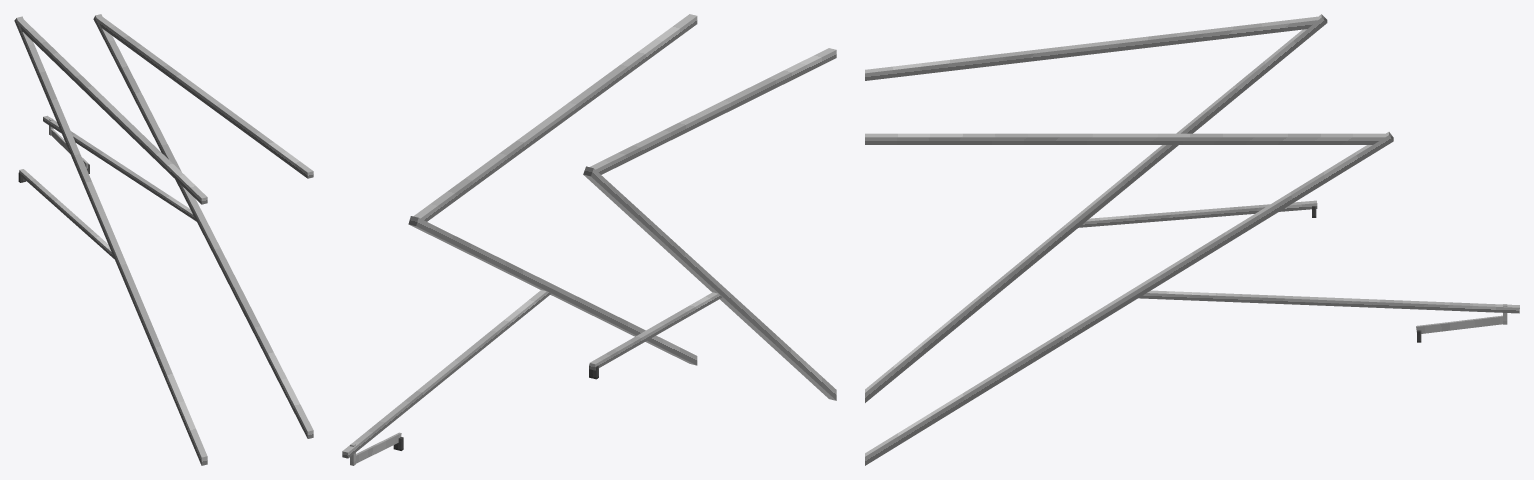
The model's file is cantilever_outer_4px.obj.
3 renders of one model, left to right at view 1: azimuth 30°, elevation 25°; view 2: azimuth 150°, elevation 25°; view 3: azimuth 270°, elevation 25°, orthographic. The views are drawn at different scales.
Visible parts, largest first — view 1: f02787f6-b596-4eef-b095-a0b0cc8eec96, fe4167ef-e834-4ed0-a3a3-b4d9966474bc, 9c4b62e1-a599-4e72-adf6-5b885848dbfd, 3a8f1b04-e4ce-414c-ba71-28ee2d99e005, 50723a59-20d2-4f52-a1a7-860f27843399, 199d9e35-196d-4c8e-9f74-f378f14262cb; view 2: 9c4b62e1-a599-4e72-adf6-5b885848dbfd, f02787f6-b596-4eef-b095-a0b0cc8eec96, 3a8f1b04-e4ce-414c-ba71-28ee2d99e005, fe4167ef-e834-4ed0-a3a3-b4d9966474bc, 50723a59-20d2-4f52-a1a7-860f27843399, 199d9e35-196d-4c8e-9f74-f378f14262cb; view 3: fe4167ef-e834-4ed0-a3a3-b4d9966474bc, f02787f6-b596-4eef-b095-a0b0cc8eec96, 9c4b62e1-a599-4e72-adf6-5b885848dbfd, 3a8f1b04-e4ce-414c-ba71-28ee2d99e005, 50723a59-20d2-4f52-a1a7-860f27843399, 199d9e35-196d-4c8e-9f74-f378f14262cb, 9cd864d0-11ef-4840-984d-8ec13ac6625a.
Boxes of the visible parts, box(x1,y1,x2,y2) form: f02787f6-b596-4eef-b095-a0b0cc8eec96: box(14, 16, 207, 465); fe4167ef-e834-4ed0-a3a3-b4d9966474bc: box(93, 14, 313, 438); 9c4b62e1-a599-4e72-adf6-5b885848dbfd: box(97, 17, 313, 178); 3a8f1b04-e4ce-414c-ba71-28ee2d99e005: box(18, 19, 207, 204); 50723a59-20d2-4f52-a1a7-860f27843399: box(43, 115, 196, 221); 199d9e35-196d-4c8e-9f74-f378f14262cb: box(19, 169, 114, 258); 9c4b62e1-a599-4e72-adf6-5b885848dbfd: box(413, 14, 697, 221); f02787f6-b596-4eef-b095-a0b0cc8eec96: box(583, 166, 836, 400); 3a8f1b04-e4ce-414c-ba71-28ee2d99e005: box(589, 48, 836, 174); fe4167ef-e834-4ed0-a3a3-b4d9966474bc: box(408, 216, 697, 365); 50723a59-20d2-4f52-a1a7-860f27843399: box(342, 290, 551, 458); 199d9e35-196d-4c8e-9f74-f378f14262cb: box(589, 292, 722, 370); fe4167ef-e834-4ed0-a3a3-b4d9966474bc: box(865, 132, 1393, 465); f02787f6-b596-4eef-b095-a0b0cc8eec96: box(865, 14, 1327, 402); 9c4b62e1-a599-4e72-adf6-5b885848dbfd: box(865, 133, 1385, 144); 3a8f1b04-e4ce-414c-ba71-28ee2d99e005: box(865, 16, 1318, 80); 50723a59-20d2-4f52-a1a7-860f27843399: box(1138, 290, 1519, 313); 199d9e35-196d-4c8e-9f74-f378f14262cb: box(1078, 200, 1317, 227); 9cd864d0-11ef-4840-984d-8ec13ac6625a: box(1416, 315, 1502, 333).
Bounding box in the file's own units: 1.19 × 3.17 × 4.87.
